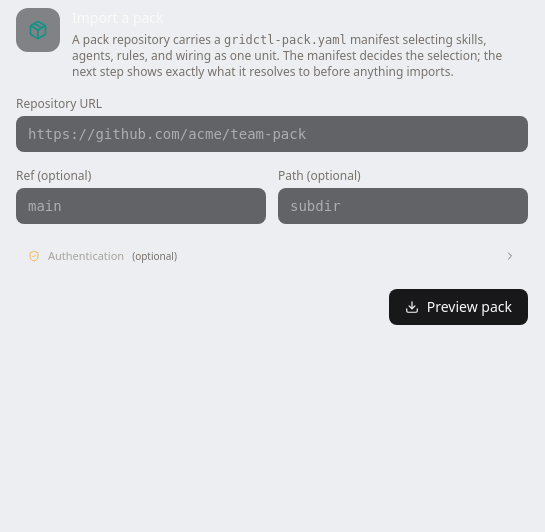
it: PackImportWizard — credentials › sends the credential on retry through the same submit button
Step 1. Type "https://github.com/acme/private-pack" into the field named "pack repository url" → point(272, 134), box [16,116,528,152]
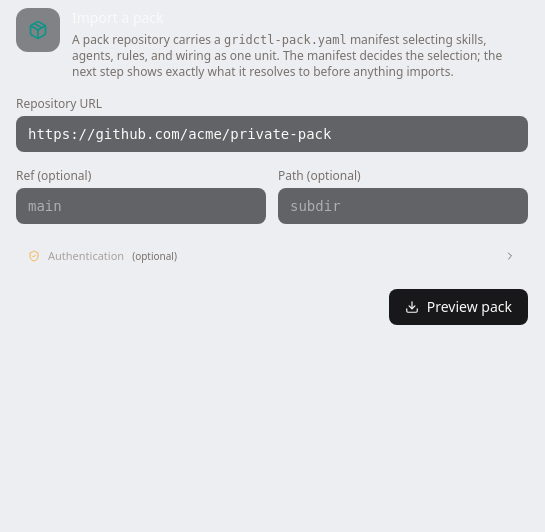
Step 2. Click the button "Preview pack" → point(458, 306), box [389,288,528,324]
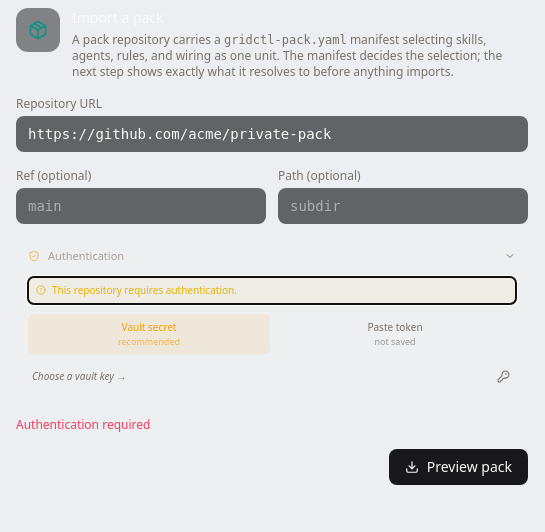
Expected: the button "Authentication" is expanded, [16,240,528,272]
Step 3. Click the radio button labelled "Paste token not saved" → point(395, 334), box [274,314,516,354]
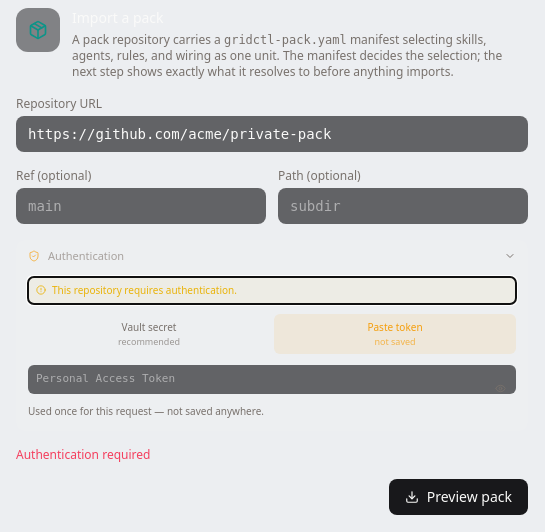
Step 4. Type "ghp_secret" into the password field with placeholder "Personal Access Token" → point(272, 379), box [28,365,516,394]
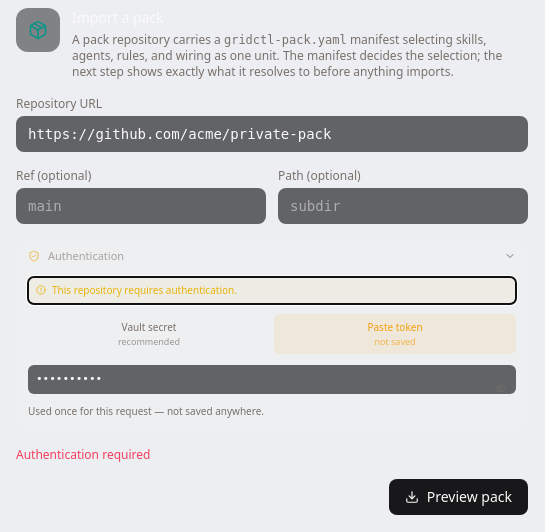
Step 5. Click the button "Preview pack" → point(458, 496), box [389,478,528,514]
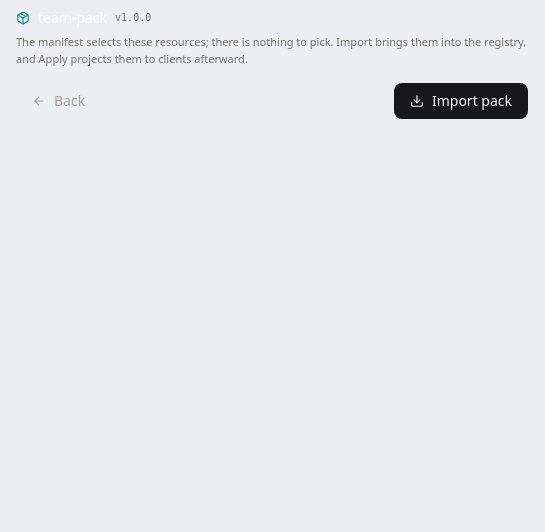
Expected: the text "team-pack v1.0.0" is shown, [16,8,151,27]
